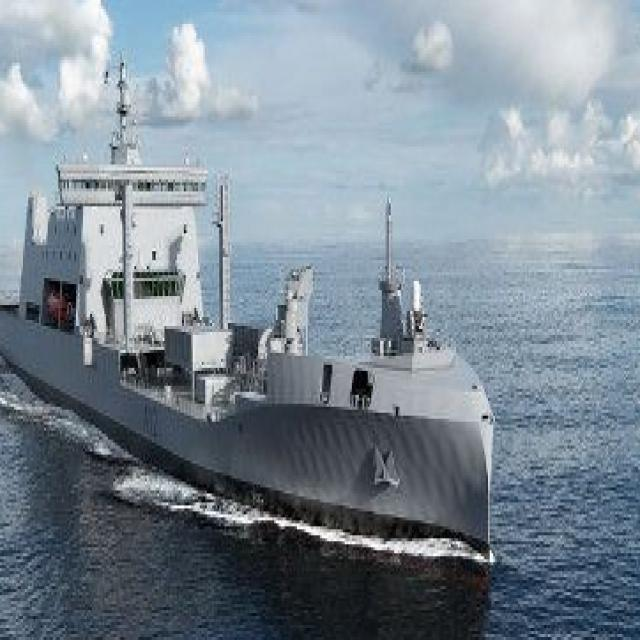navalvessels: (0, 123, 490, 547)
